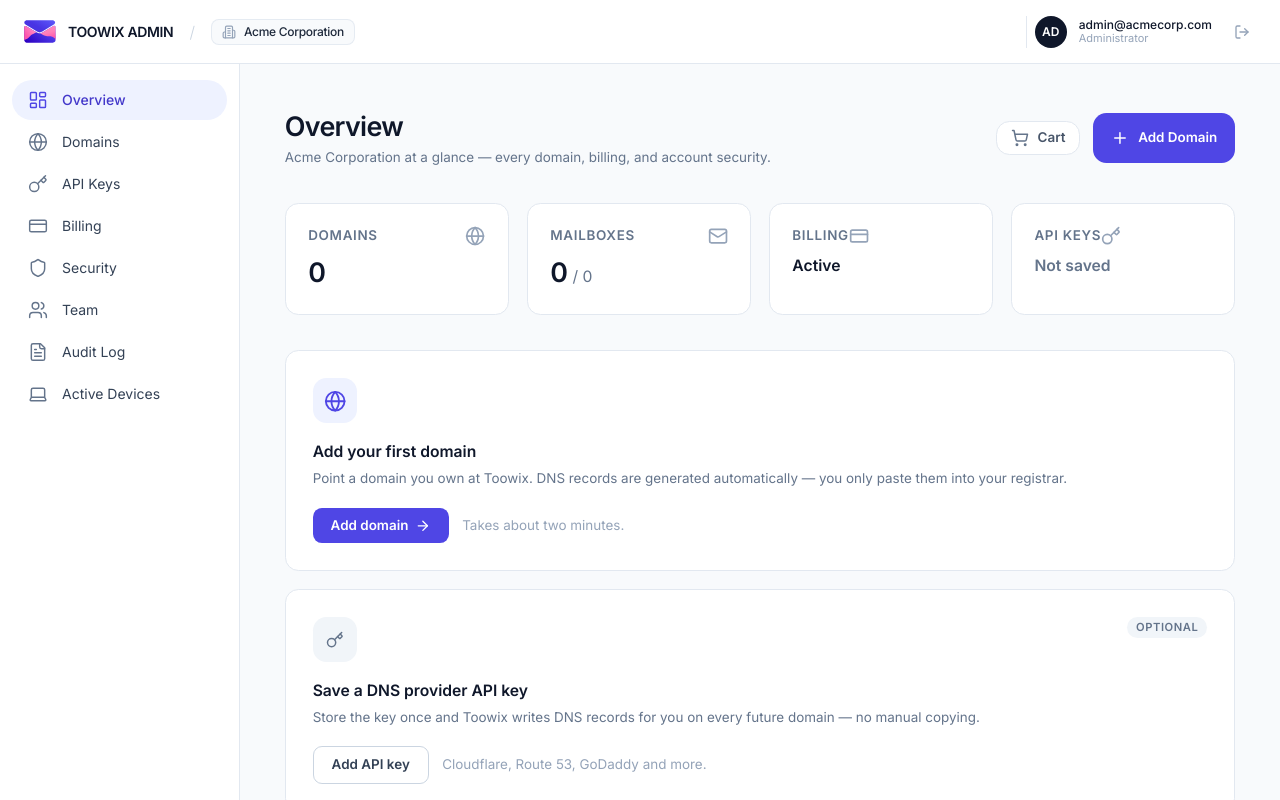
it: TenantHomeView Component › nudges saving a DNS provider API key from the zero-domains setup tasks
Expected: the heading "Save a DNS provider API key" is shown, x1=313 y1=681 x2=528 y2=700
Click the button "Add API key": (371, 765) x1=313 y1=746 x2=429 y2=784
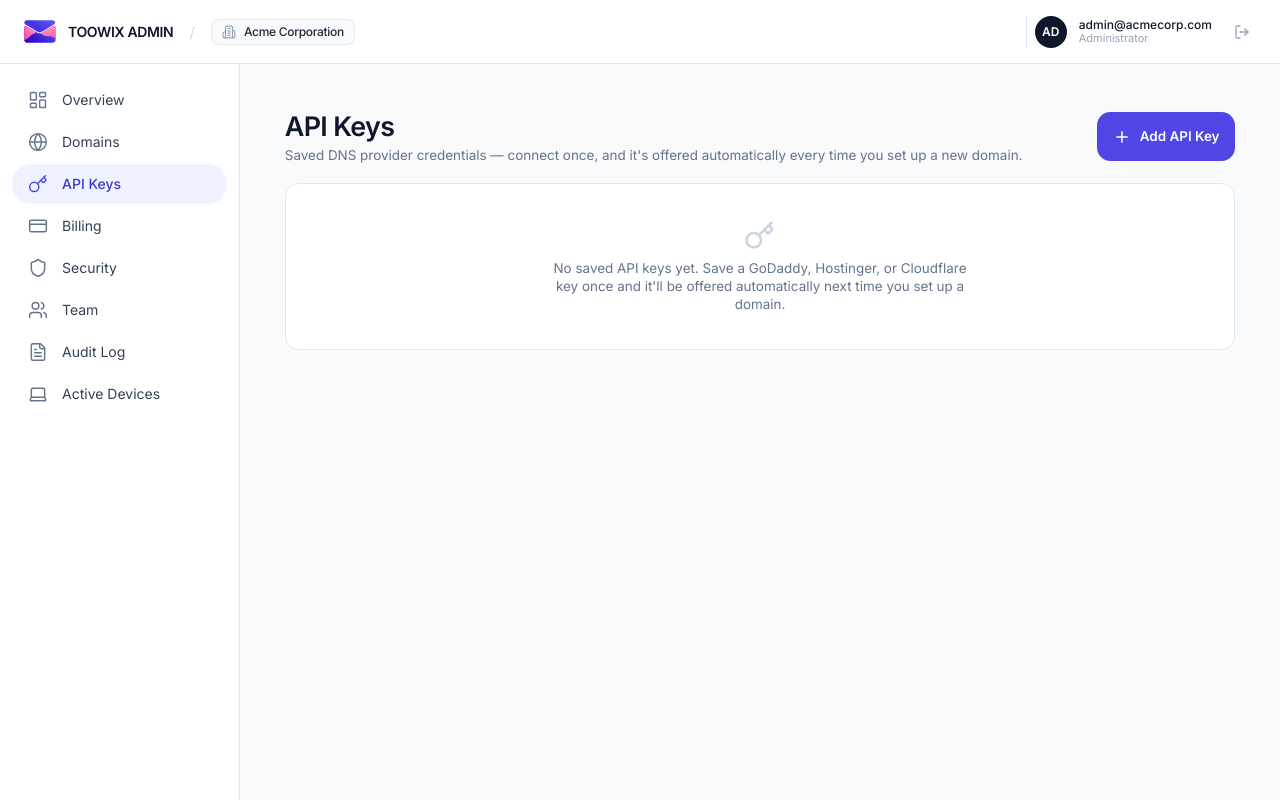
Expected: the heading "API Keys" is shown, x1=285 y1=110 x2=394 y2=142
